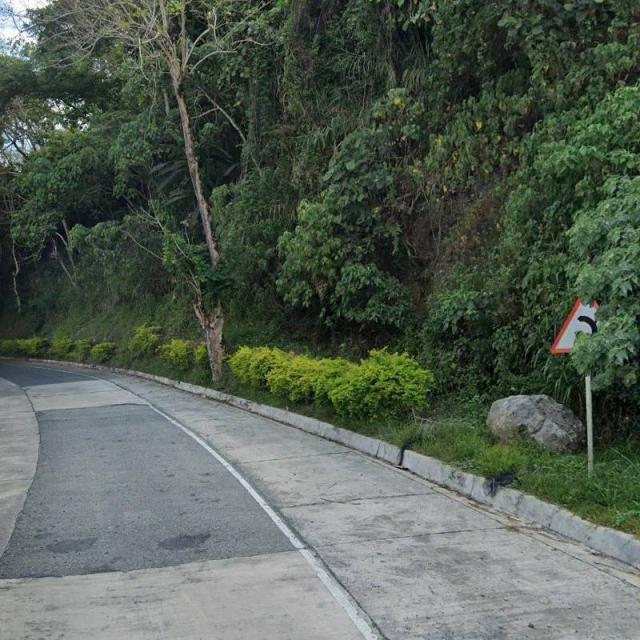warn_left_curve: (552, 285, 626, 353)
